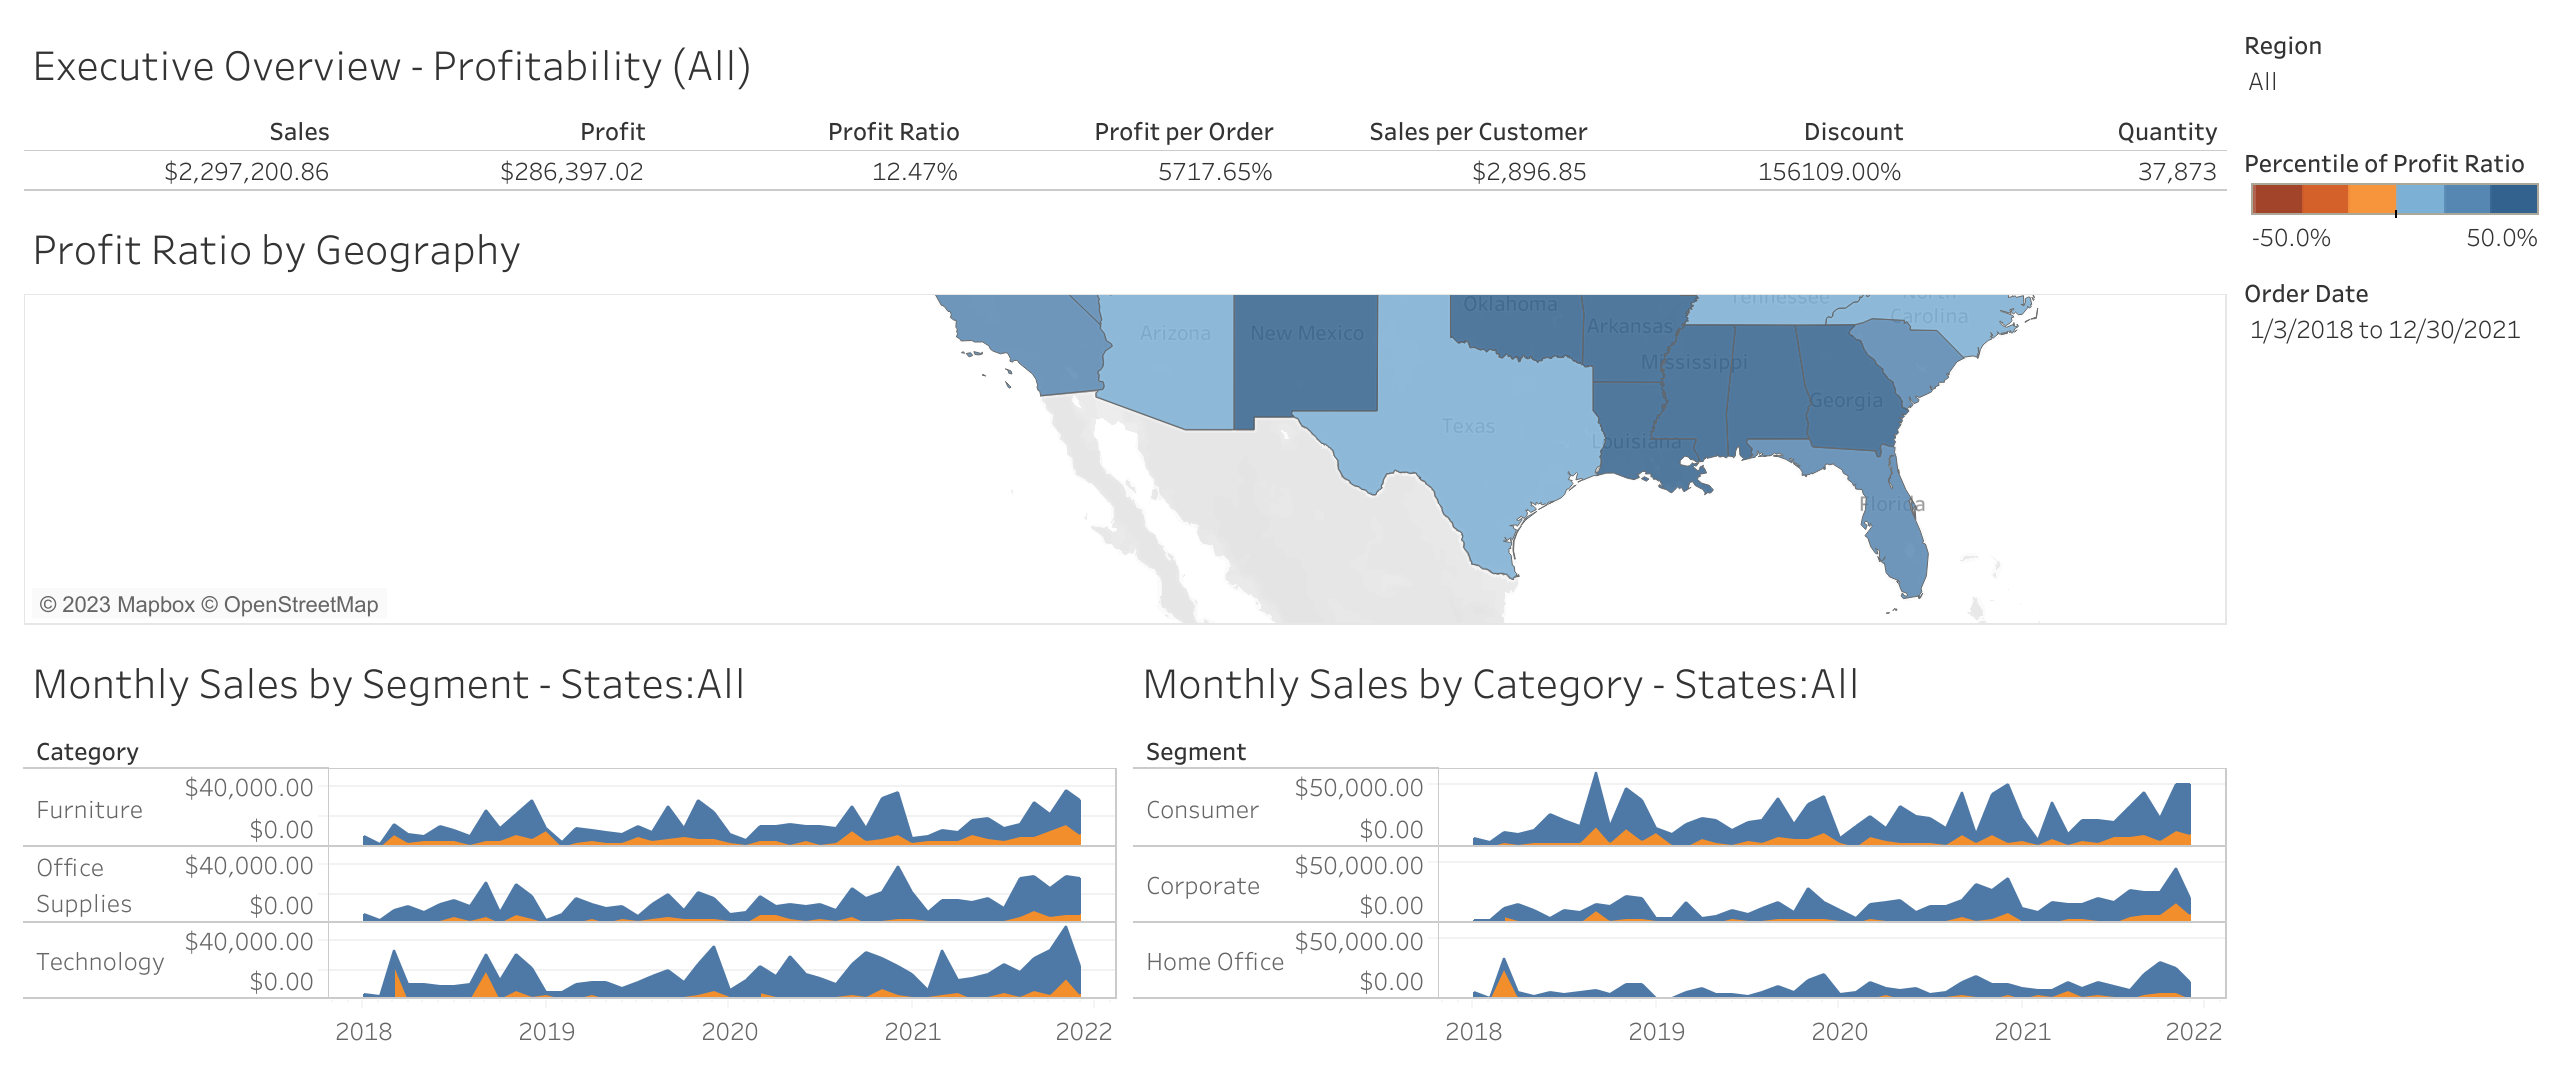

The dashboard page shown, as its layout file describes it:
{"tool":"tableau","page":{"name":"Executive Overview","canvas":[1000,1000],"units":"permille","ordinal":0},"visuals":[{"type":"worksheet","title":"Key Performance Indicators","mark":"Automatic","box":[5,9.7,890.2,135.9]},{"type":"filter","title":"Profit Ratio by Geography","param":"[federated.0aoa45b0gjs7qo11jwt8708g3d9z].[none:Region:nk]","box":[895.2,9.7,99.8,63.1]},{"type":"legend","title":"Profit Ratio by Geography","param":"[federated.0aoa45b0gjs7qo11jwt8708g3d9z].[pcrk:usr:Calculation_30917915453841940","box":[895.2,72.8,99.8,78.9]},{"type":"worksheet","title":"Profit Ratio by Geography","mark":"Automatic","box":[5,145.6,890.2,331.3]},{"type":"filter","title":"Sales by Segment","param":"[federated.0aoa45b0gjs7qo11jwt8708g3d9z].[none:Order Date:qk]","box":[895.2,151.7,99.8,83.7]},{"type":"worksheet","title":"Sales by Category","mark":"Area","rows":["Category","Sales"],"cols":["Order Date"],"box":[5,476.9,445.1,513.4]},{"type":"worksheet","title":"Sales by Segment","mark":"Area","rows":["Segment","Sales"],"cols":["Order Date"],"box":[450.1,476.9,445.1,513.4]}]}

Visuals, with their boxes on the dashboard's canvas, which has no fixed pixel size, in thousandths of its width and height (x1, y1, x2, y2). These are canvas units, not pixel positions in the 2570x1084 screenshot, which may show the page scaled, cropped or inside an application window:
"Key Performance Indicators" worksheet: region(5, 10, 895, 146)
"Profit Ratio by Geography" filter: region(895, 10, 995, 73)
"Profit Ratio by Geography" legend: region(895, 73, 995, 152)
"Profit Ratio by Geography" worksheet: region(5, 146, 895, 477)
"Sales by Segment" filter: region(895, 152, 995, 235)
"Sales by Category" worksheet (Area marks): region(5, 477, 450, 990)
"Sales by Segment" worksheet (Area marks): region(450, 477, 895, 990)
